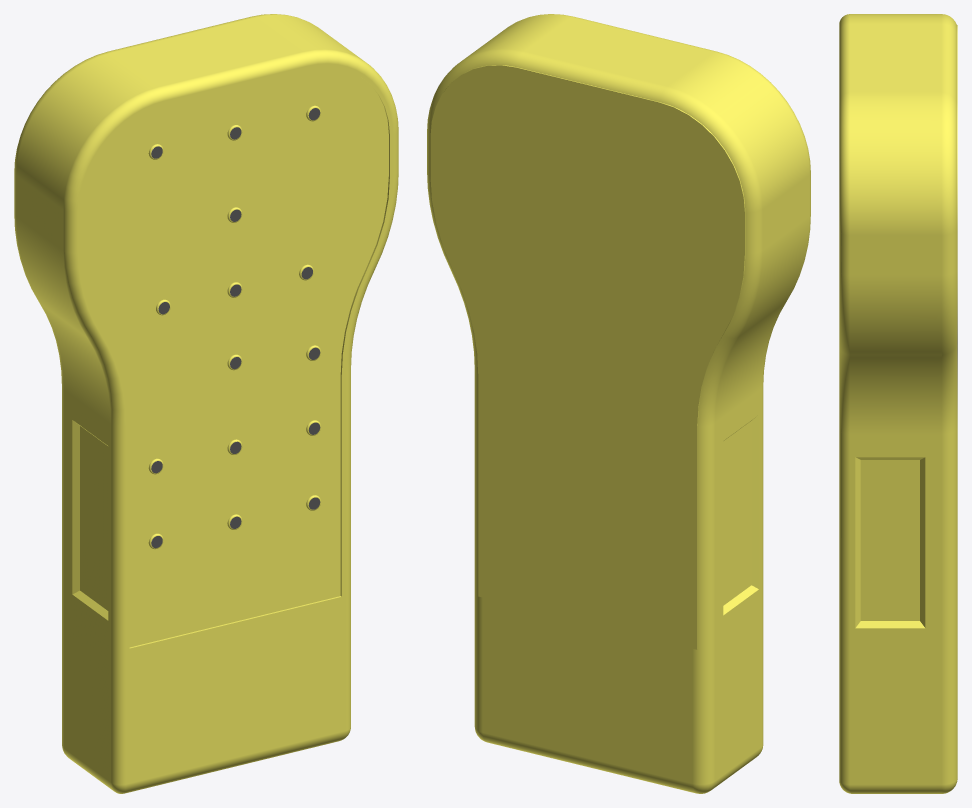
3 renders of one model, left to right at view 1: azimuth 30°, elevation 25°; view 2: azimuth 150°, elevation 25°; view 3: azimuth 270°, elevation 25°, orthographic. The views are drawn at different scales.
Parts seen in each view (by area): view 1: WH-DB15-1.SLDPRT; view 2: WH-DB15-1.SLDPRT; view 3: WH-DB15-1.SLDPRT.
Boxes of the visible parts, bbox=[...] form: WH-DB15-1.SLDPRT: bbox=[14, 14, 398, 793]; WH-DB15-1.SLDPRT: bbox=[427, 14, 810, 793]; WH-DB15-1.SLDPRT: bbox=[839, 14, 957, 793].
Size of the model in its own units: 0.07 by 0.14 by 0.022.
